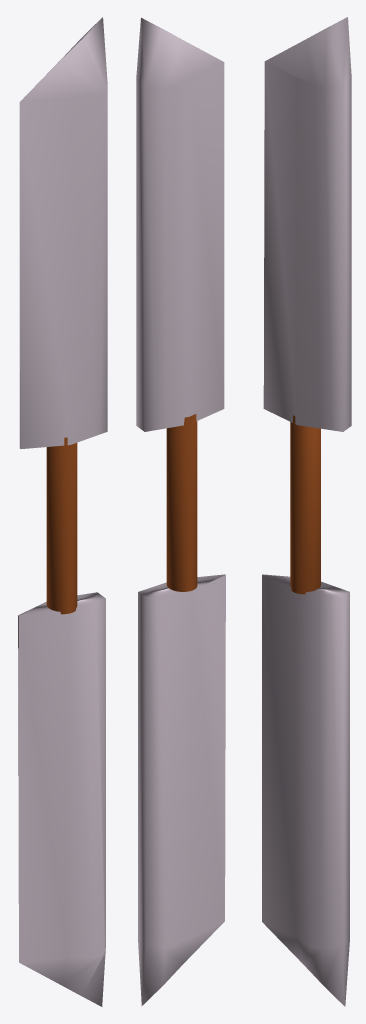
The model's file is ThanosSword.fbx.
3 renders of one model, left to right at view 1: azimuth 30°, elevation 25°; view 2: azimuth 210°, elevation 25°; view 3: azimuth 330°, elevation 25°, orthographic.
Visible parts, largest first — view 1: Cube.001; view 2: Cube.001; view 3: Cube.001.
Part boxes in pixels (x1,y1,x2,y2): Cube.001: [18, 17, 107, 1006]; Cube.001: [136, 17, 225, 1005]; Cube.001: [262, 17, 351, 1006].
Bounding box in the file's own units: 65.98 × 734 × 37.53.
